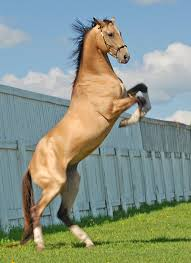horse: (22, 17, 151, 248)
